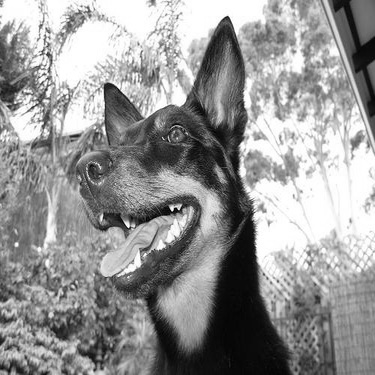dog: (58, 3, 308, 371)
